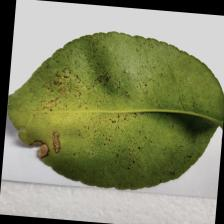canker: (19, 59, 153, 160)
